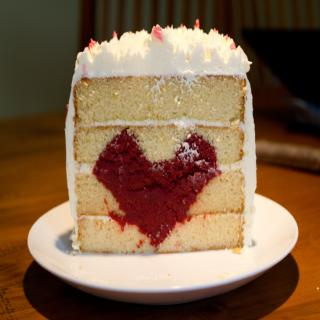Cake: (64, 19, 252, 250)
